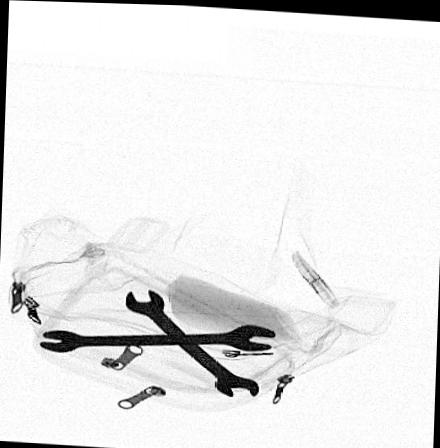Wrench: (124, 287, 257, 395), (37, 323, 275, 351)
